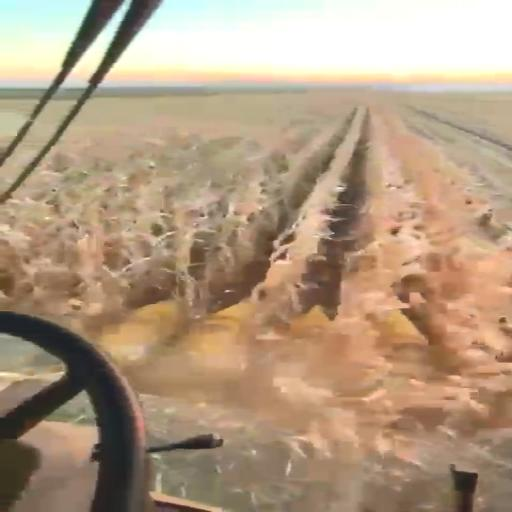misir: (1, 93, 512, 459)
